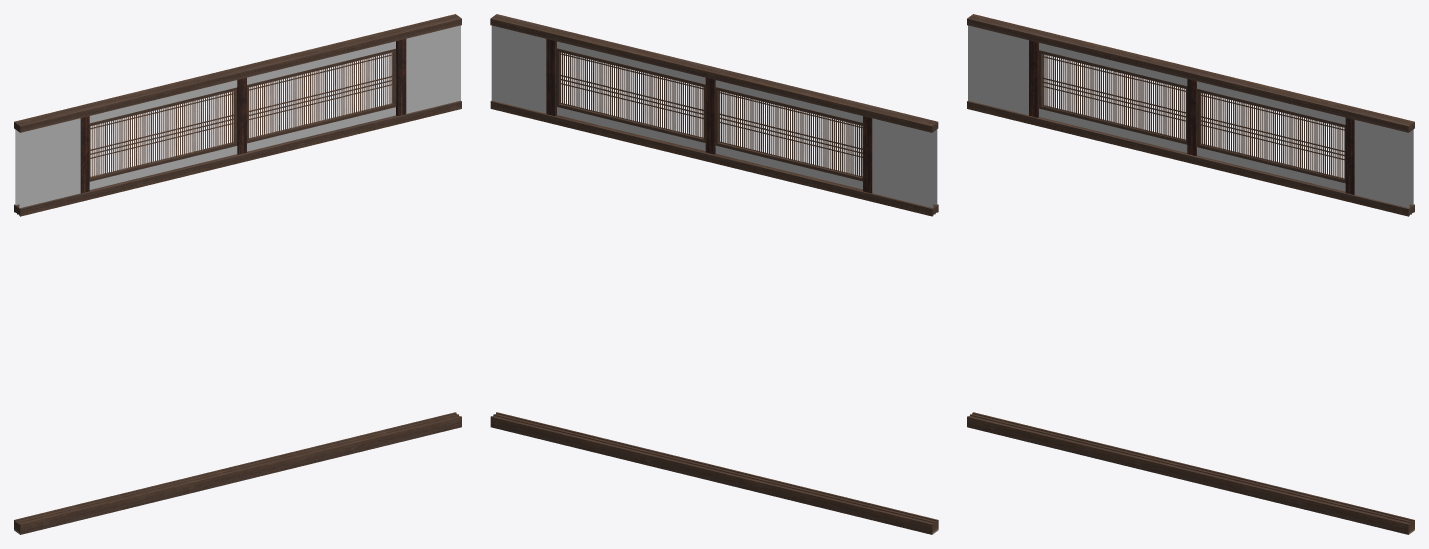
Rendered from jov_inwall_ranma_1.5t04.fbx.
3 views of the same model, side by side, from view 1: azimuth 30°, elevation 25°; view 2: azimuth 150°, elevation 25°; view 3: azimuth 330°, elevation 25° (orthographic).
Visible parts, largest first — view 1: jov_inwall_ranma_1.5t04; view 2: jov_inwall_ranma_1.5t04; view 3: jov_inwall_ranma_1.5t04.
Part boxes in pixels (left/top/right/bottom): jov_inwall_ranma_1.5t04: left=14, top=14, right=461, bottom=534; jov_inwall_ranma_1.5t04: left=490, top=14, right=938, bottom=534; jov_inwall_ranma_1.5t04: left=967, top=14, right=1414, bottom=534.
Size of the model in its own units: 330 by 292 by 8.22.
